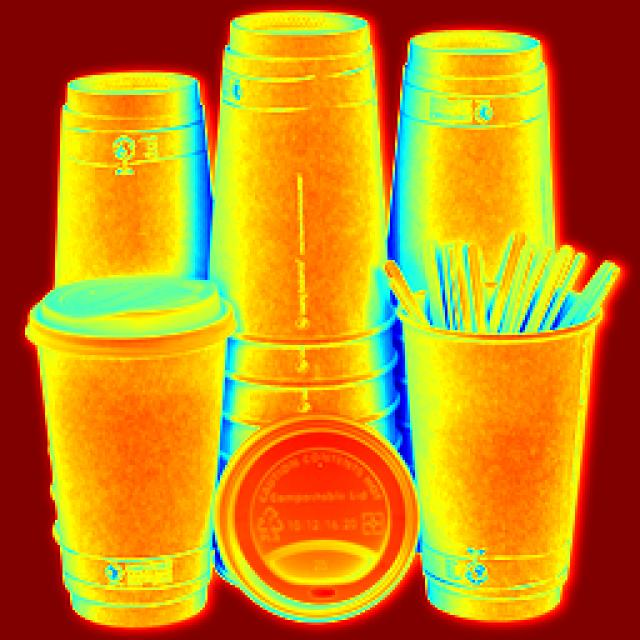Paper Cups: (36, 277, 241, 600), (223, 6, 374, 426), (392, 297, 586, 609), (220, 416, 404, 605), (396, 63, 570, 237), (60, 78, 206, 240)
